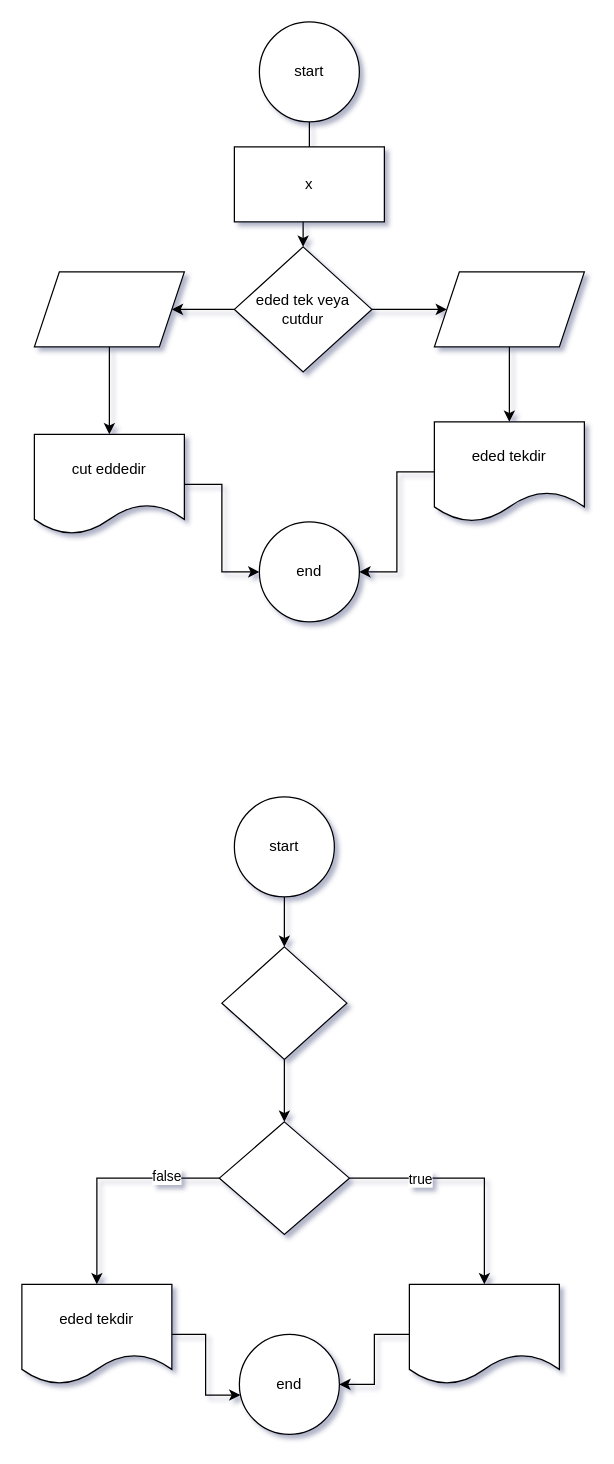
The diagram is 614 pixels wide and 1464 high, and some of its shapes have lost their labels. Here are the shapes that lost their labels. From the top down, the box of each, then its label:
(33, 271, 184, 347): x%2=0
(433, 271, 584, 347): x%2=1
(221, 946, 347, 1059): y=x%3
(218, 1121, 349, 1234): y%2==0
(408, 1283, 559, 1384): eded cutdur
